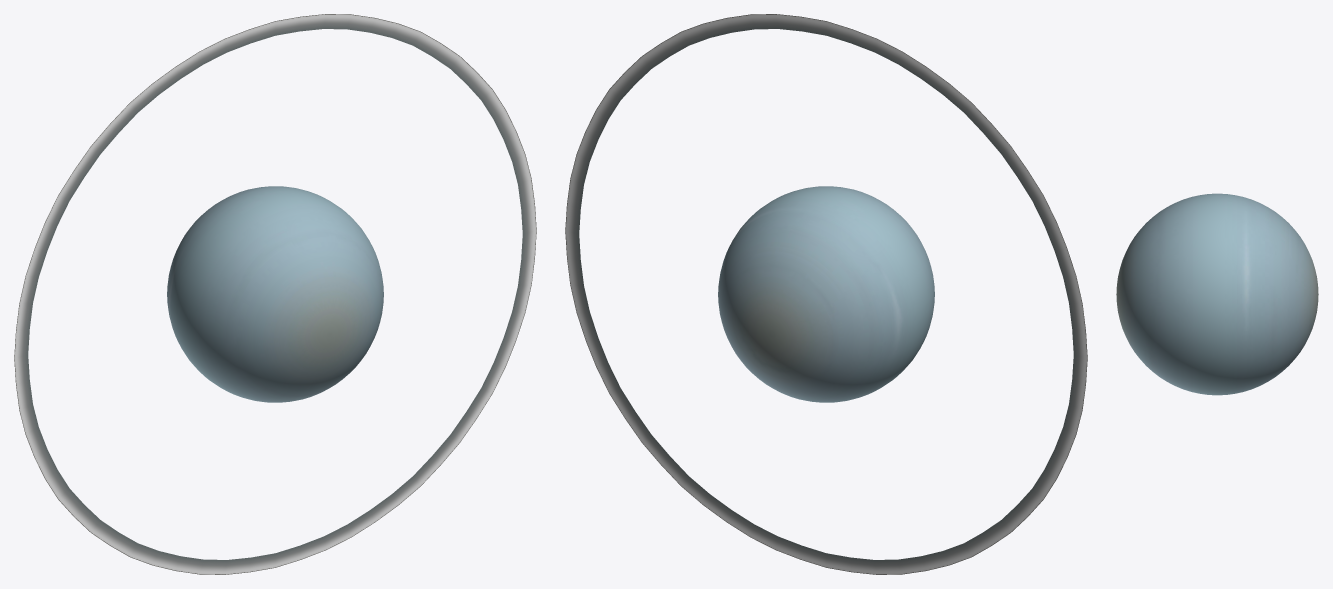
The model's file is Uranus.obj.
The picture shows the model from 3 angles, left to right: view 1: azimuth 30°, elevation 25°; view 2: azimuth 150°, elevation 25°; view 3: azimuth 270°, elevation 25°; orthographic projection. The views are drawn at different scales.
Visible parts, largest first — view 1: Sphere; view 2: Sphere; view 3: Sphere.
Part boxes in pixels (x1=…): Sphere: x1=14, y1=14, x2=536, y2=574; Sphere: x1=565, y1=14, x2=1087, y2=574; Sphere: x1=1116, y1=193, x2=1318, y2=395.
Size of the model in its own units: 221 by 221 by 79.58.
2 materials, 2 textured.
